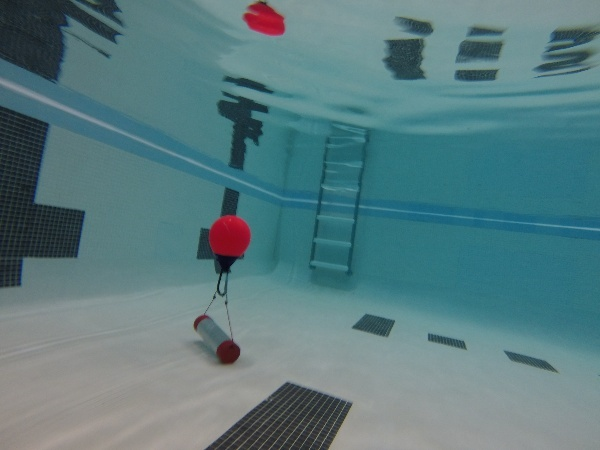buoy_red: (207, 213, 252, 278)
